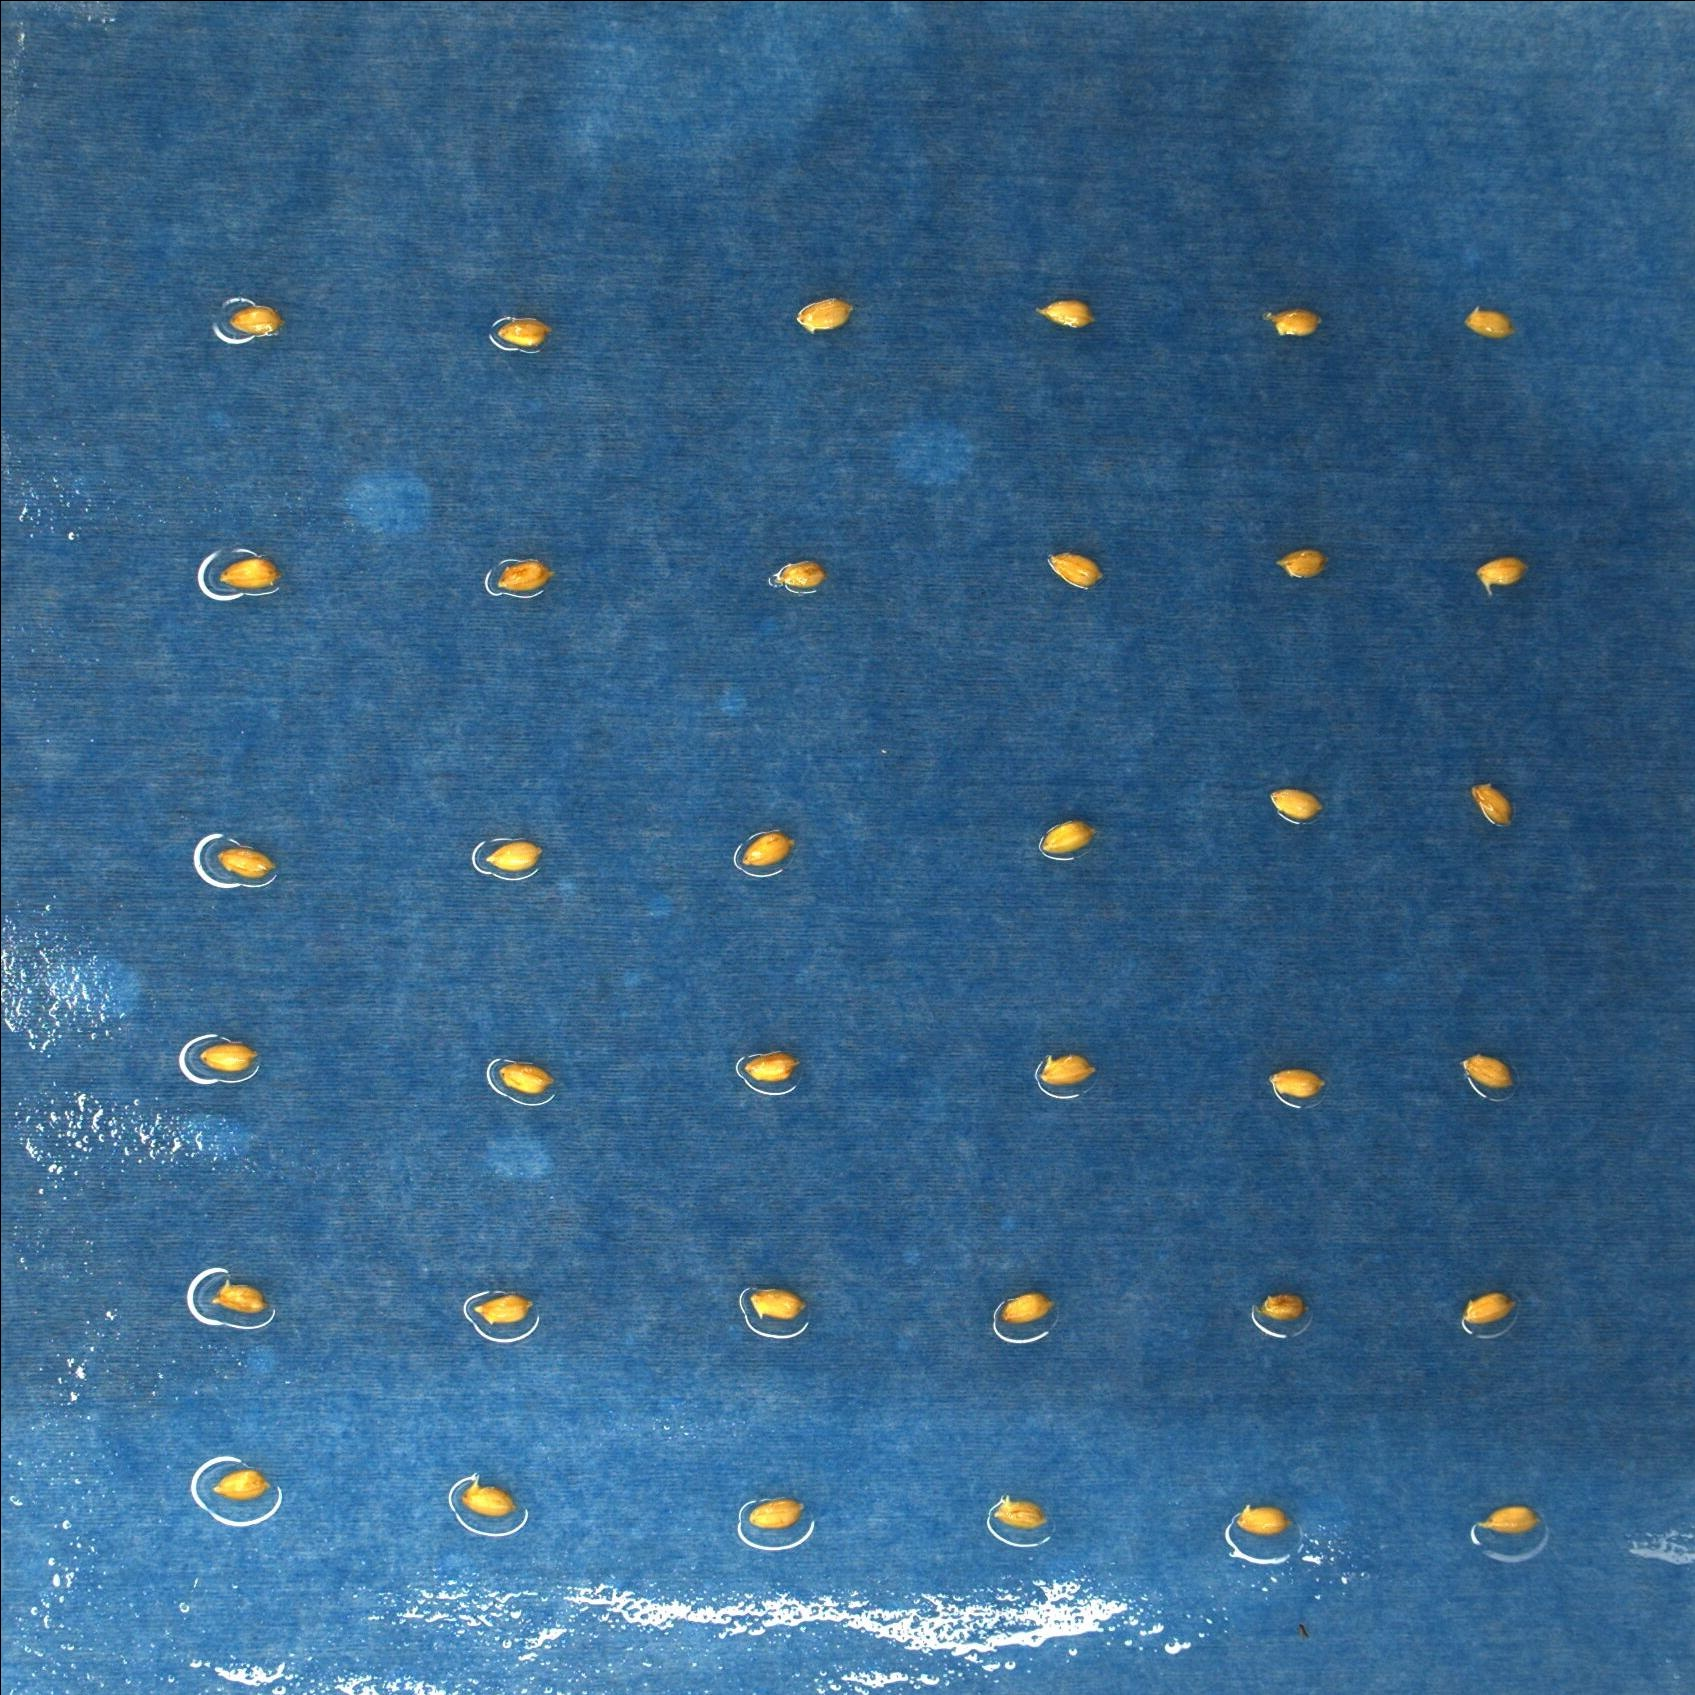not sprout: (1035, 821, 1102, 858), (990, 1493, 1054, 1532), (1231, 1499, 1296, 1537), (1045, 551, 1107, 590), (739, 826, 796, 868), (1465, 782, 1515, 830), (463, 1478, 522, 1518), (1459, 1052, 1515, 1094), (492, 314, 557, 349), (1270, 785, 1327, 826), (469, 1288, 536, 1322), (1476, 1503, 1543, 1537), (210, 1468, 276, 1503), (739, 1049, 809, 1082), (1034, 296, 1097, 332), (747, 1288, 810, 1324), (796, 298, 857, 335), (214, 557, 279, 591), (1034, 1049, 1096, 1085), (494, 556, 557, 590), (210, 1277, 267, 1315), (1476, 557, 1529, 598), (1270, 1063, 1326, 1101), (1001, 1288, 1057, 1326), (216, 844, 276, 879), (494, 1063, 559, 1094), (750, 1496, 806, 1532), (483, 840, 543, 872), (228, 303, 286, 337), (1459, 1291, 1516, 1326), (1250, 1290, 1312, 1321), (1263, 307, 1327, 337), (203, 1038, 261, 1071), (1461, 303, 1512, 337), (768, 556, 821, 588), (1274, 549, 1329, 577)
